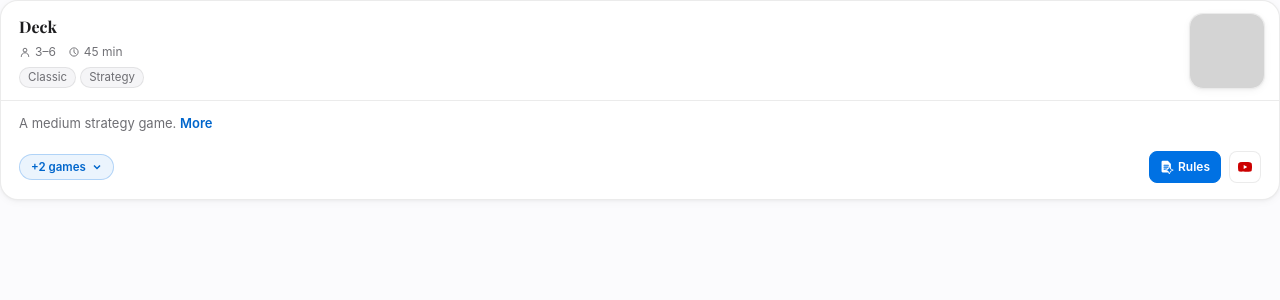
Test: GameCard › games inside a game › previews the names on hover, gone once the pointer leaves, like the award count
Hover over the button with aria-label "Deck: +2 games" at (66, 167), box [19, 154, 114, 180]
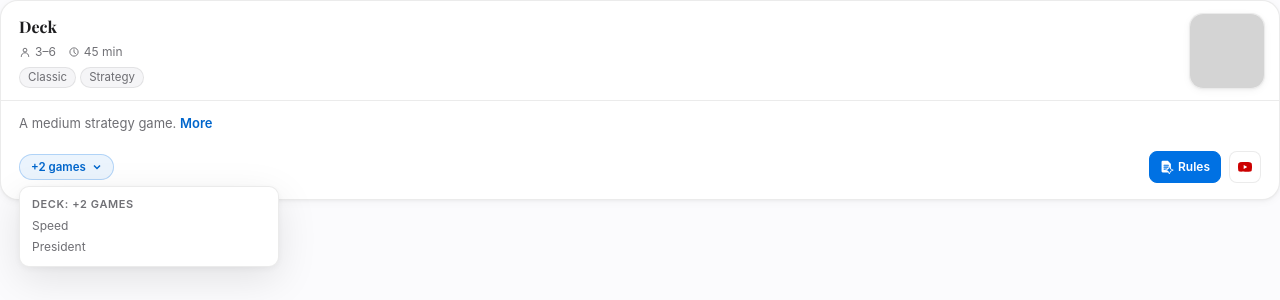
Move the pointer off the button with aria-label "Deck: +2 games", box [19, 154, 114, 180]
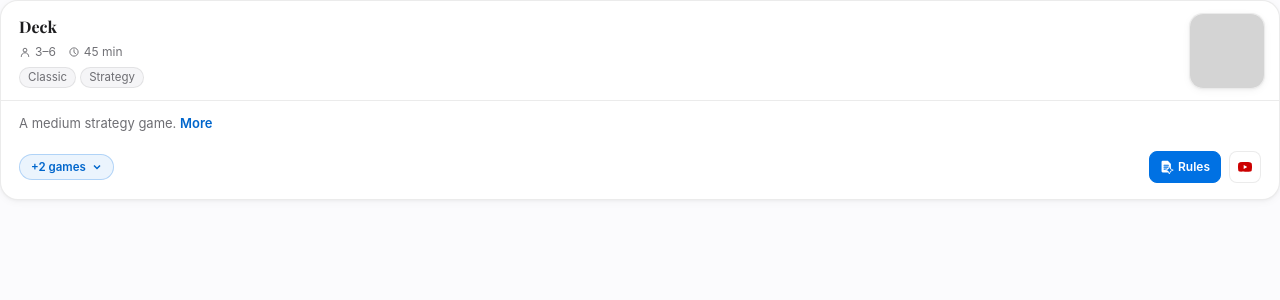
Check: the tooltip "Deck: +2 games Speed President" is gone
